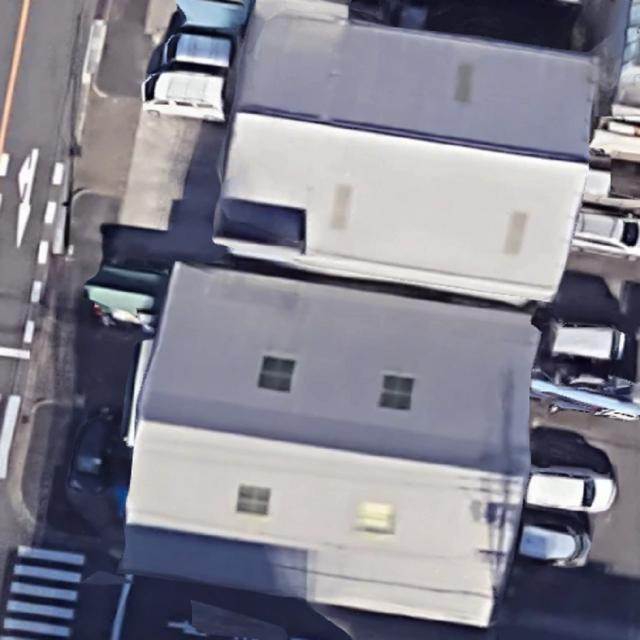Batiment: (123, 262, 537, 626), (216, 0, 596, 304)
